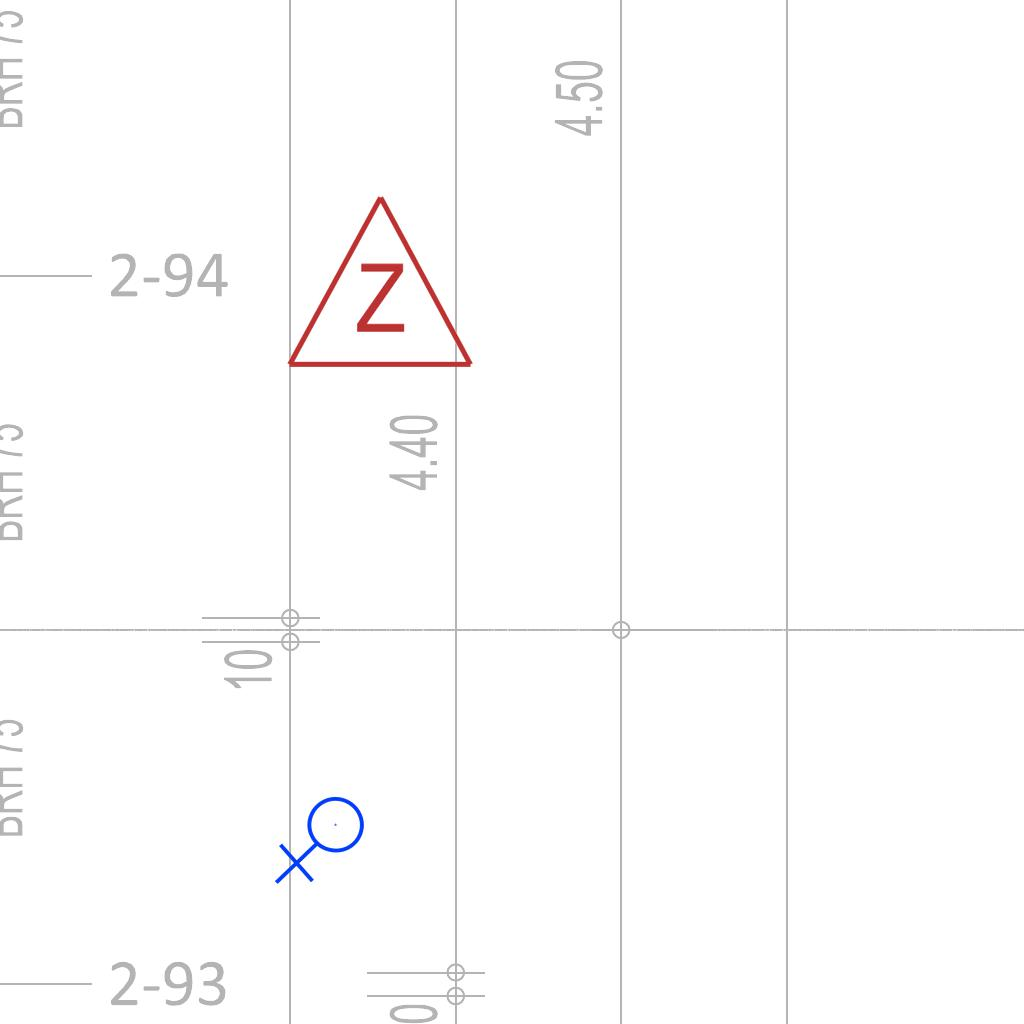Elektroanschluss_allgemein_230V_Geraeteanschlussdose_230V: (274, 795, 373, 889)
Zimmersignalleuchte: (280, 182, 476, 382)
